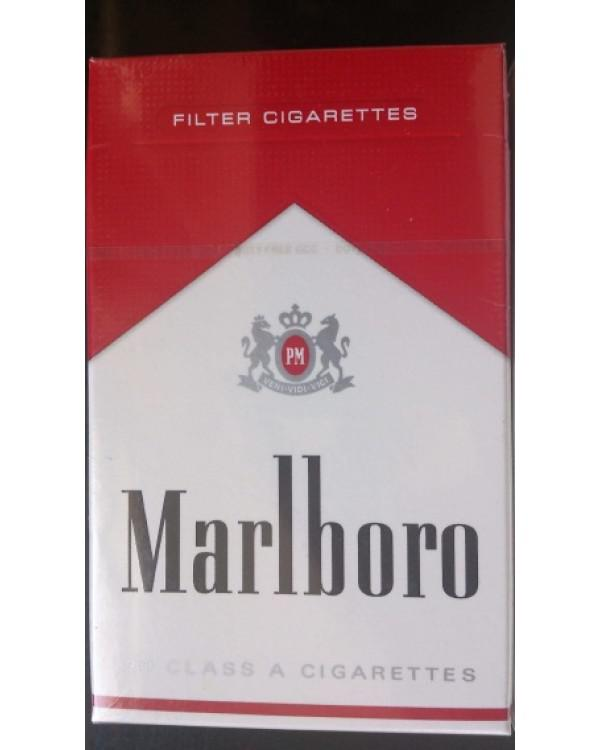marlboro_red: (89, 42, 514, 736)
